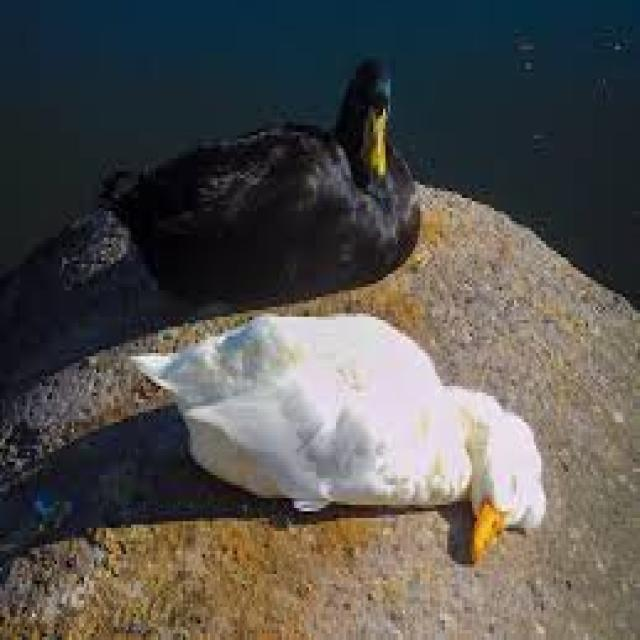Duck: (121, 300, 563, 559), (106, 55, 429, 297)
